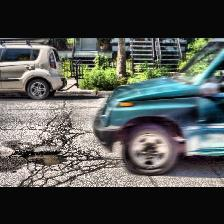pothole: (20, 150, 66, 164)
